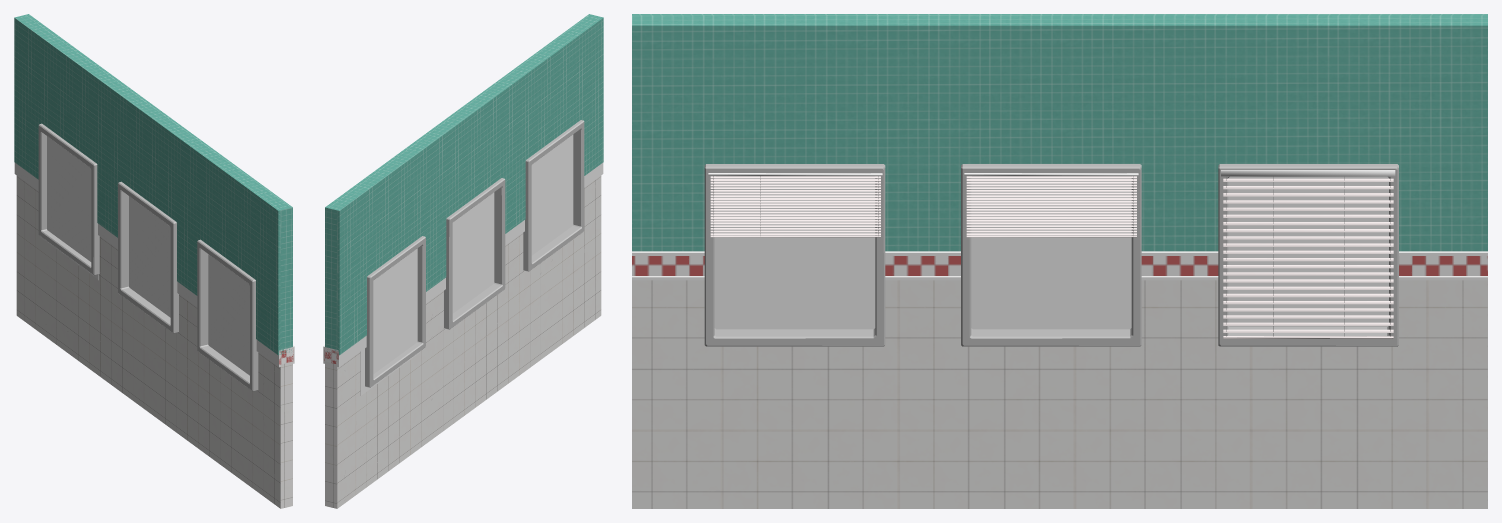
The model's file is wall4 2_combine.fbx.
The picture shows the model from 3 angles, left to right: view 1: azimuth 30°, elevation 25°; view 2: azimuth 150°, elevation 25°; view 3: azimuth 270°, elevation 25°; orthographic projection. The views are drawn at different scales.
Parts seen in each view (by area): view 1: _0_2_1; view 2: _0_2_1; view 3: _0_2_1.
Boxes of the visible parts, x1,y1,x2,y2 form: _0_2_1: [14, 14, 294, 508]; _0_2_1: [323, 14, 603, 508]; _0_2_1: [632, 14, 1487, 508].
Bounding box in the file's own units: 85.03 × 1036 × 1663.
